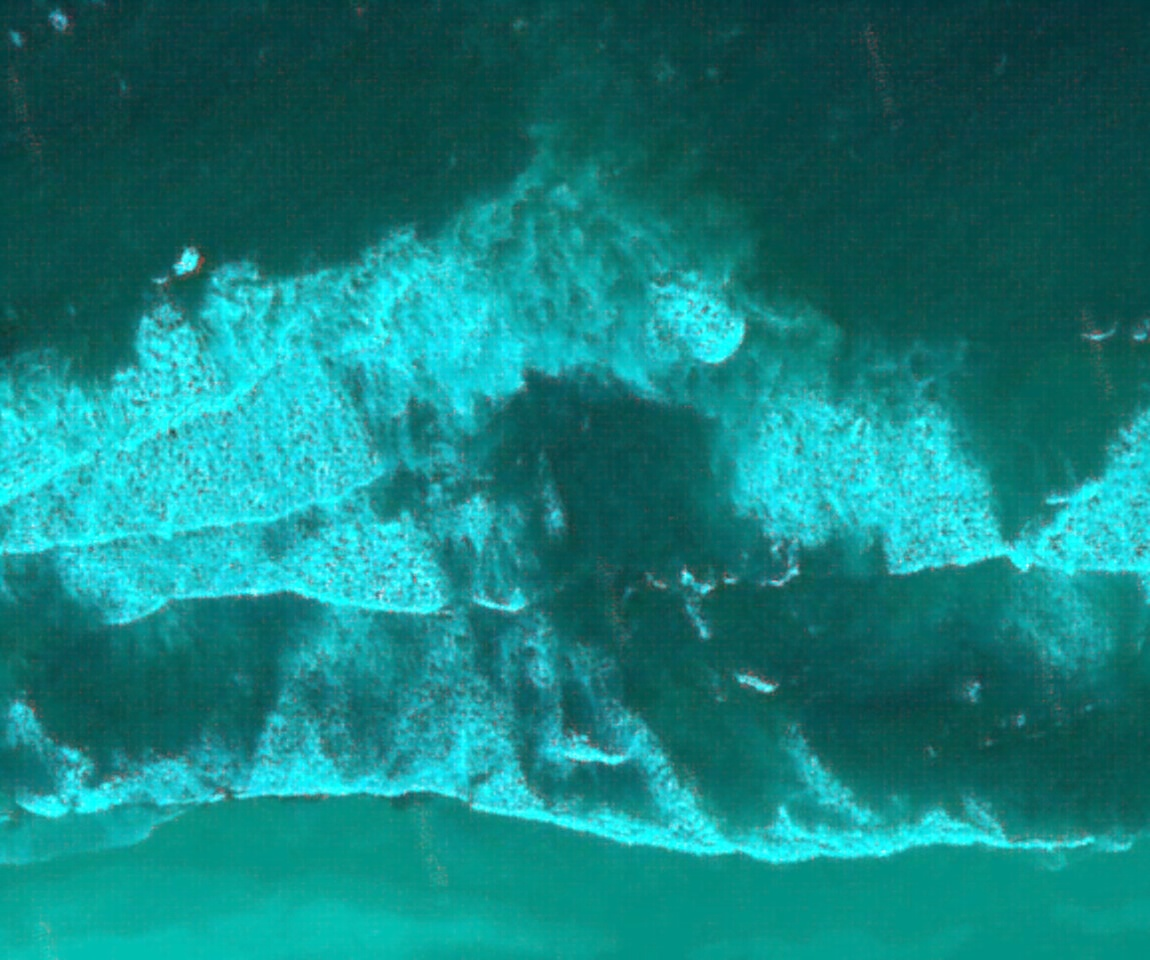rip_current: (384, 68, 829, 773)
